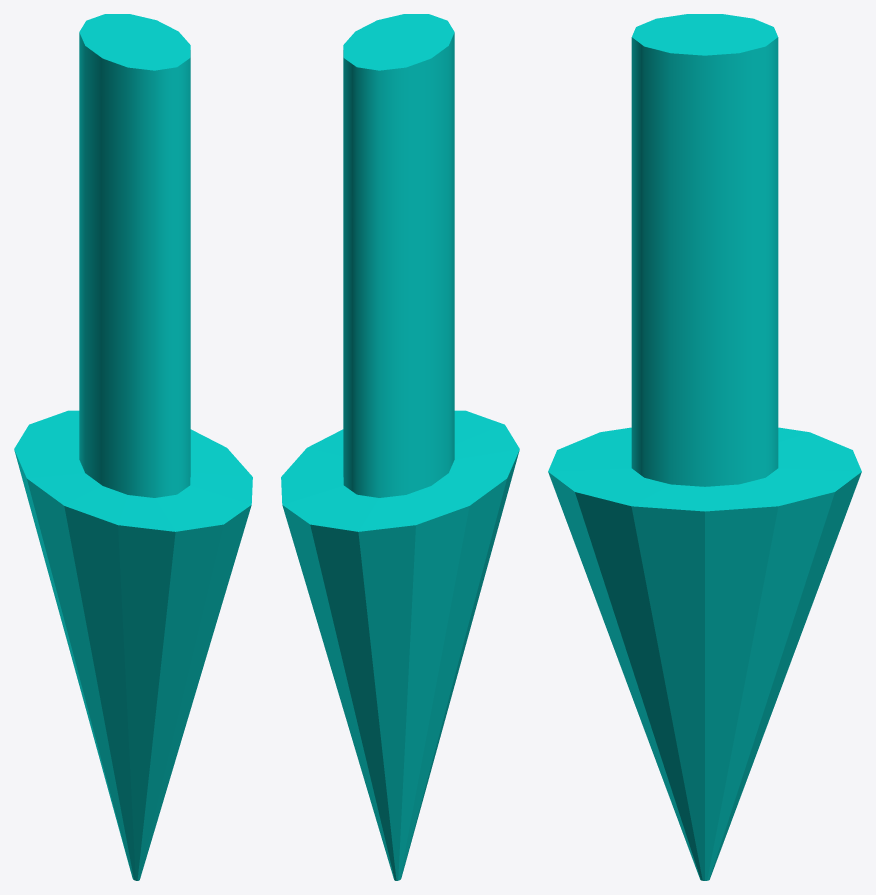
File: down arrow anim.fbx
3 views of the same model, side by side, from view 1: azimuth 30°, elevation 25°; view 2: azimuth 150°, elevation 25°; view 3: azimuth 270°, elevation 25° (orthographic).
Visible parts, largest first — view 1: arrow; view 2: arrow; view 3: arrow.
Boxes of the visible parts, x1,y1,x2,y2 form: arrow: (14,14,252,880); arrow: (281,14,519,880); arrow: (548,14,861,880).
Size of the model in its own units: 0.5004 by 2.21 by 0.7428.
